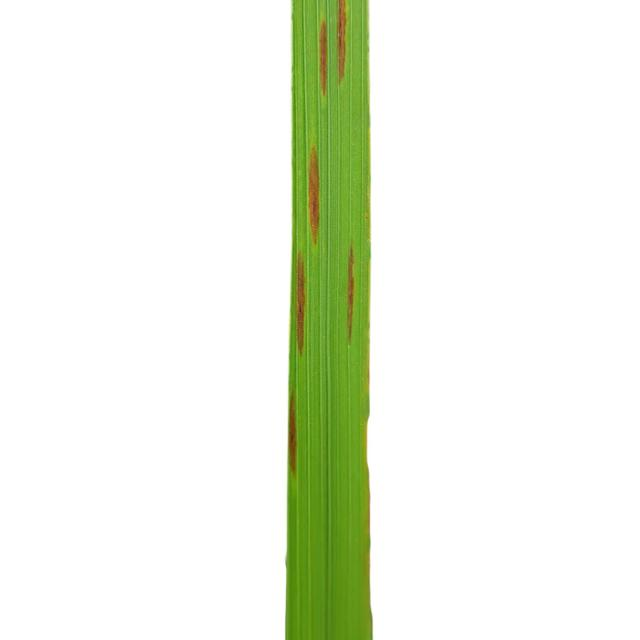Narrow brown: (225, 0, 442, 640)
